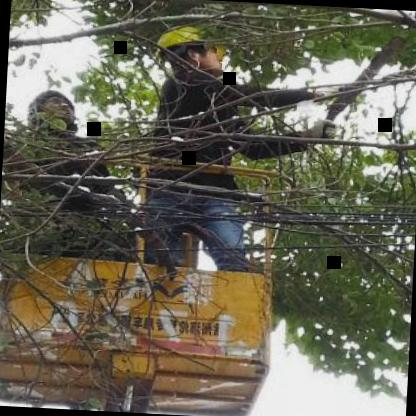helmet: (155, 20, 221, 72)
